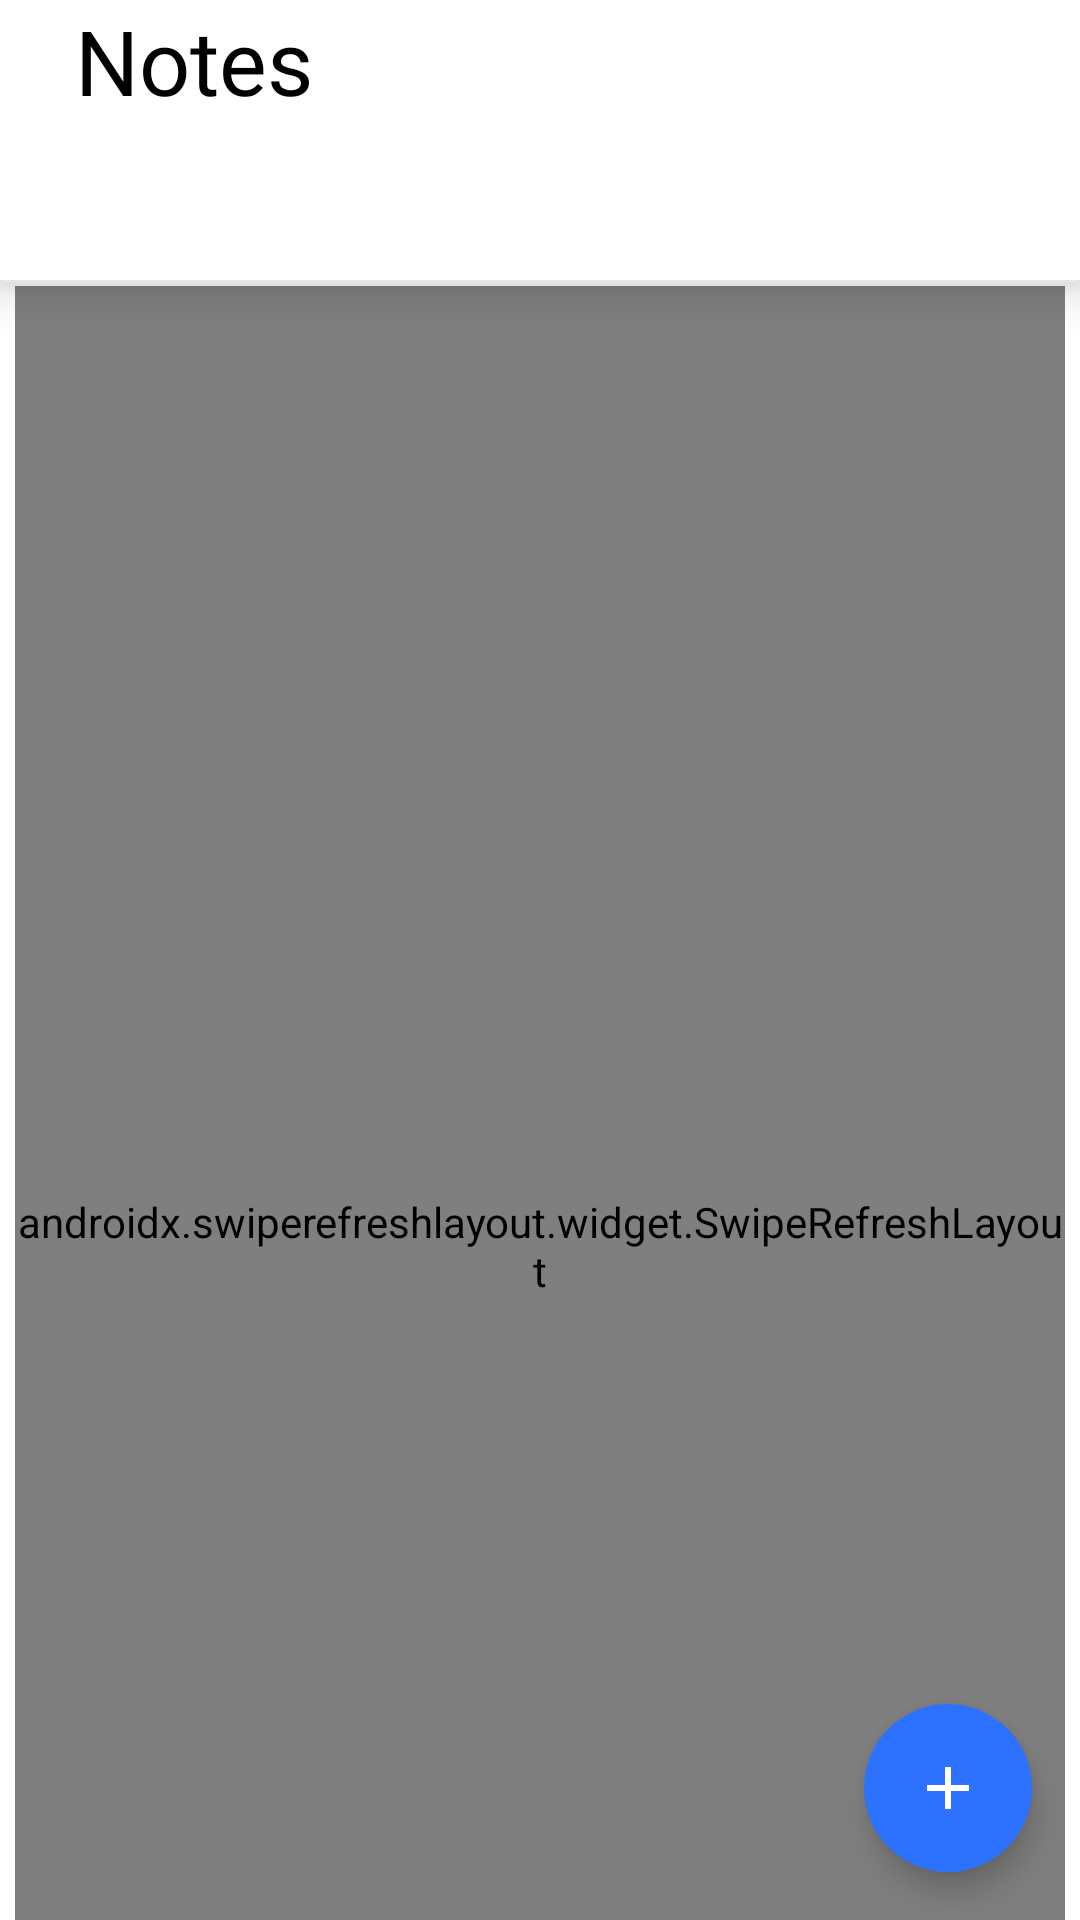

Icons on this 1080×1920 Android screen, each with its box as {"left": x1, "top": y1, "right": x2, "bottom": y2}:
Add a Note: {"left": 864, "top": 1704, "right": 1032, "bottom": 1872}
